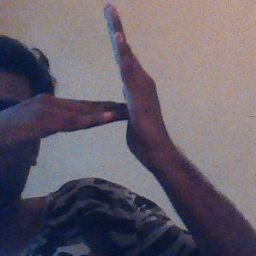Z: (51, 1, 163, 159)
